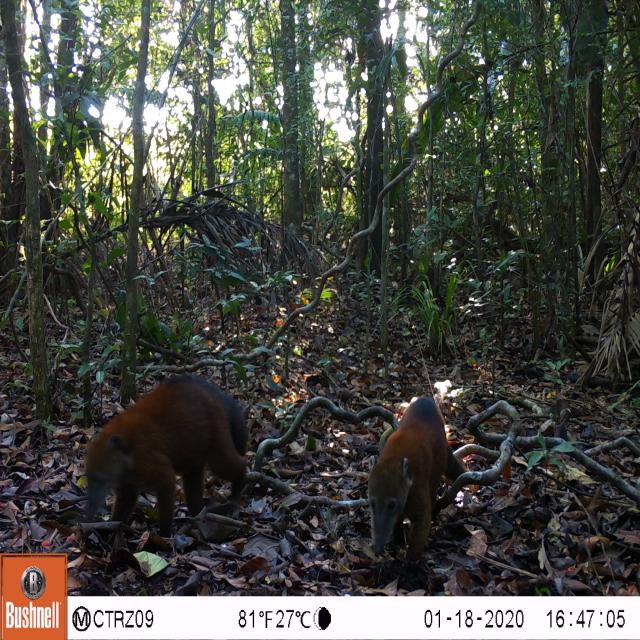South American Coati: (74, 360, 259, 543), (359, 386, 488, 582)
